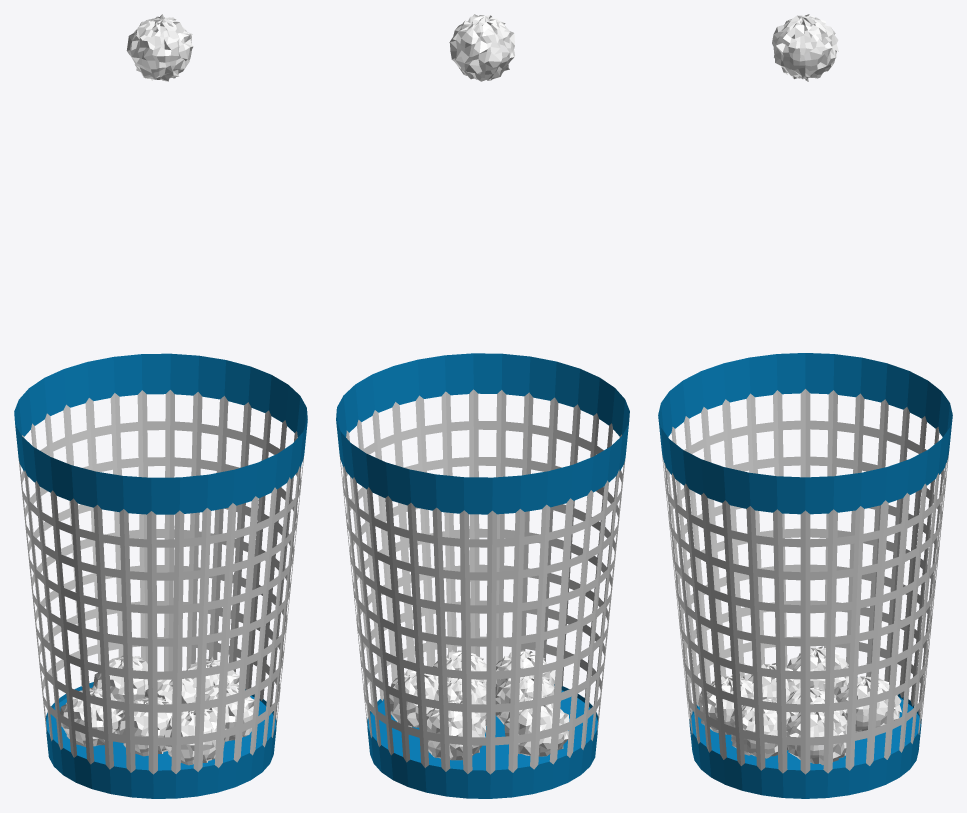
The model's file is TrashPaperBall.fbx.
3 renders of one model, left to right at view 1: azimuth 30°, elevation 25°; view 2: azimuth 150°, elevation 25°; view 3: azimuth 270°, elevation 25°, orthographic.
Visible parts, largest first — view 1: Cylinder, Sphere, Sphere.004, Sphere.001, Sphere.006, Sphere.003, Sphere.005, Sphere.007; view 2: Cylinder, Sphere, Sphere.003, Sphere.001, Sphere.002, Sphere.006, Sphere.007, Sphere.004, Sphere.005; view 3: Cylinder, Sphere, Sphere.002, Sphere.003, Sphere.005, Sphere.004, Sphere.001, Sphere.006.
Boxes of the visible parts, bbox=[...] form: Cylinder: bbox=[14, 353, 307, 798]; Sphere: bbox=[126, 14, 193, 81]; Sphere.004: bbox=[164, 708, 225, 765]; Sphere.001: bbox=[60, 685, 123, 746]; Sphere.006: bbox=[115, 696, 172, 756]; Sphere.003: bbox=[93, 655, 148, 710]; Sphere.005: bbox=[205, 682, 254, 741]; Sphere.007: bbox=[145, 677, 205, 704]; Cylinder: bbox=[336, 353, 629, 798]; Sphere: bbox=[449, 14, 514, 81]; Sphere.003: bbox=[426, 700, 485, 760]; Sphere.001: bbox=[504, 696, 569, 756]; Sphere.002: bbox=[389, 669, 438, 727]; Sphere.006: bbox=[495, 675, 554, 724]; Sphere.007: bbox=[434, 677, 486, 725]; Sphere.004: bbox=[495, 650, 554, 694]; Sphere.005: bbox=[433, 650, 486, 687]; Cylinder: bbox=[658, 353, 952, 798]; Sphere: bbox=[772, 14, 838, 81]; Sphere.002: bbox=[786, 710, 847, 765]; Sphere.003: bbox=[836, 675, 901, 732]; Sphere.005: bbox=[729, 697, 790, 758]; Sphere.004: bbox=[698, 675, 753, 734]; Sphere.001: bbox=[787, 646, 848, 698]; Sphere.006: bbox=[743, 663, 800, 701].
Size of the model in its own units: 260 by 716 by 260.
